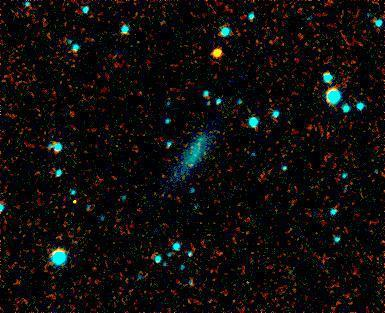star: (201, 38, 231, 68)
